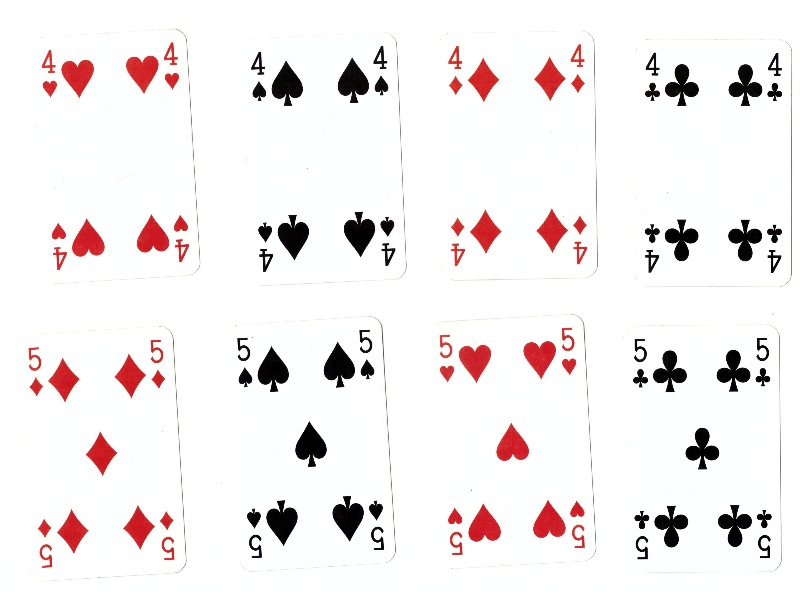4c: (762, 219, 786, 279), (641, 219, 663, 280), (643, 44, 664, 107), (764, 48, 787, 105)
4d: (446, 209, 468, 273), (568, 211, 592, 269), (567, 39, 589, 100), (444, 41, 467, 97)
4h: (47, 218, 71, 276), (170, 213, 194, 268), (161, 39, 184, 93), (38, 45, 60, 101)
4s: (247, 45, 271, 105), (376, 209, 399, 269), (254, 215, 276, 277), (370, 39, 392, 100)
5c: (751, 333, 776, 392), (631, 505, 654, 563), (630, 334, 651, 392), (754, 506, 775, 563)
5d: (146, 334, 170, 397), (33, 514, 56, 571), (157, 509, 179, 566), (25, 342, 46, 401)
5h: (557, 322, 581, 379), (444, 504, 467, 560), (436, 329, 457, 387), (568, 499, 590, 553)
5s: (355, 326, 378, 384), (243, 505, 266, 563), (366, 497, 388, 556), (233, 334, 255, 392)
